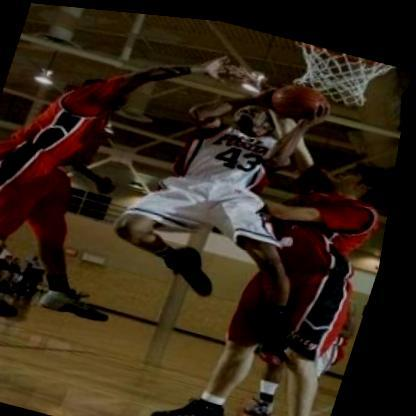basketball: (262, 66, 345, 129)
